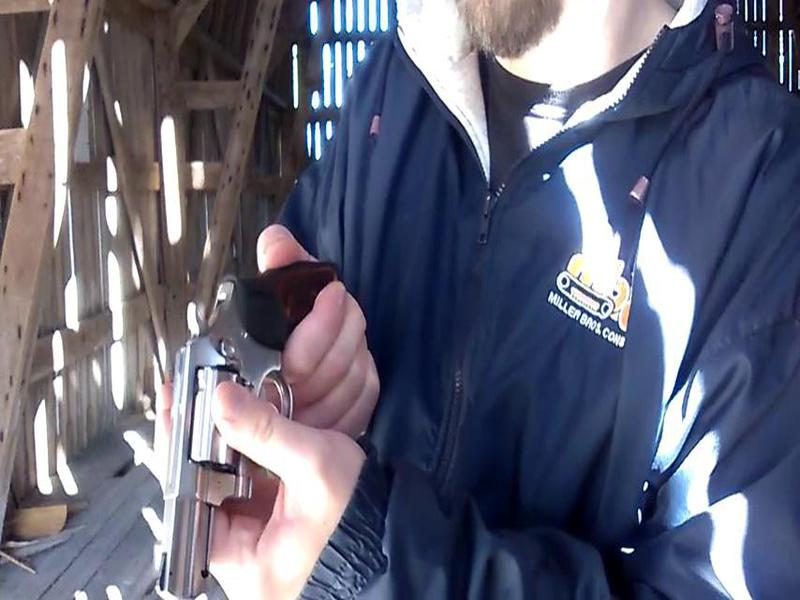Revolver: (133, 254, 301, 599)
